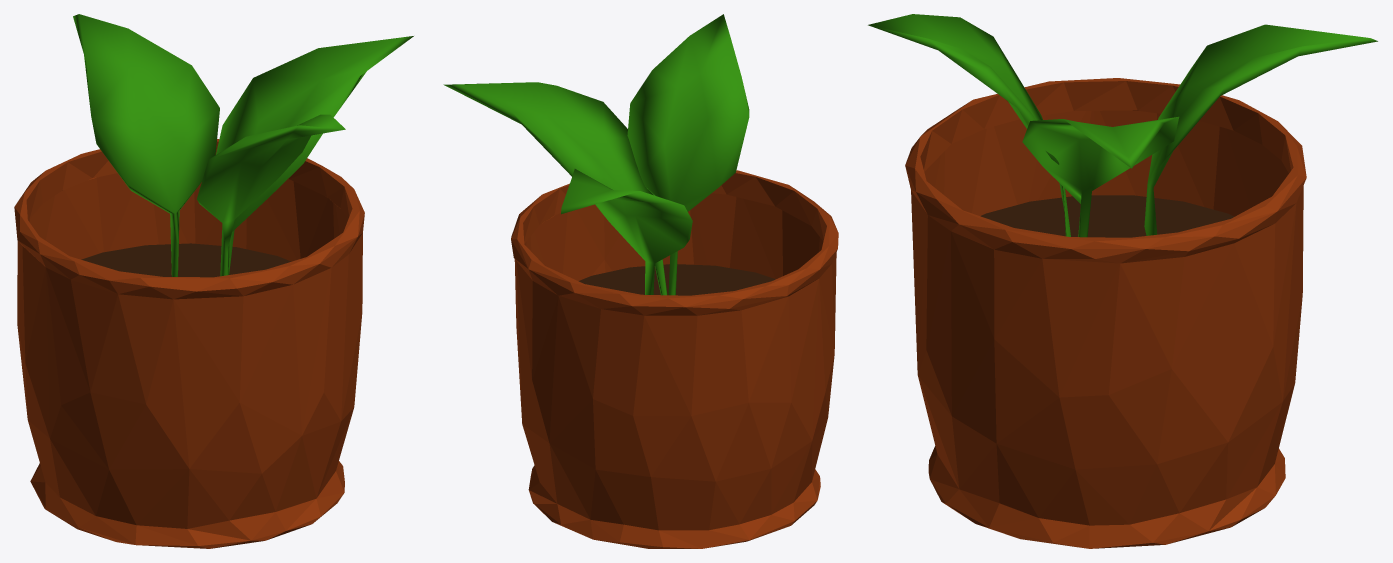
File: plant3.gltf
3 views of the same model, side by side, from view 1: azimuth 30°, elevation 25°; view 2: azimuth 150°, elevation 25°; view 3: azimuth 270°, elevation 25° (orthographic). The views are drawn at different scales.
Parts seen in each view (by area): view 1: FlowerPot_Cylinder, Plant.000_Circle.006, Plant.001_Circle.005, Plant.002_Circle.007, Cercle_Cercle.002; view 2: FlowerPot_Cylinder, Plant.002_Circle.007, Plant.001_Circle.005, Plant.000_Circle.006, Cercle_Cercle.002; view 3: FlowerPot_Cylinder, Plant.000_Circle.006, Plant.001_Circle.005, Cercle_Cercle.002, Plant.002_Circle.007.
Boxes of the visible parts, x1=… form: FlowerPot_Cylinder: x1=14, y1=139, x2=364, y2=548; Plant.000_Circle.006: x1=73, y1=14, x2=219, y2=276; Plant.001_Circle.005: x1=216, y1=36, x2=413, y2=274; Plant.002_Circle.007: x1=197, y1=114, x2=345, y2=276; Cercle_Cercle.002: x1=81, y1=243, x2=290, y2=277; FlowerPot_Cylinder: x1=511, y1=170, x2=838, y2=548; Plant.002_Circle.007: x1=627, y1=14, x2=749, y2=295; Plant.001_Circle.005: x1=443, y1=82, x2=667, y2=295; Plant.000_Circle.006: x1=561, y1=169, x2=692, y2=294; Cercle_Cercle.002: x1=578, y1=264, x2=775, y2=295; FlowerPot_Cylinder: x1=905, y1=78, x2=1306, y2=548; Plant.000_Circle.006: x1=1144, y1=24, x2=1377, y2=235; Plant.001_Circle.005: x1=1022, y1=116, x2=1179, y2=237; Cercle_Cercle.002: x1=980, y1=195, x2=1234, y2=237; Plant.002_Circle.007: x1=868, y1=14, x2=1070, y2=236.
Bounding box in the file's own units: 2.6 × 2.68 × 2.6.
